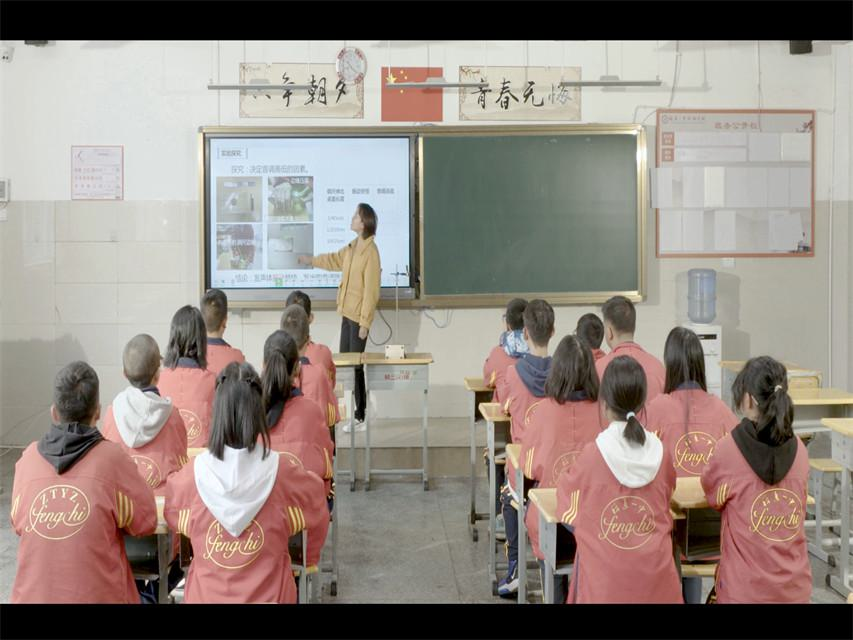listen: (595, 293, 664, 362), (505, 295, 550, 392), (489, 296, 527, 365), (575, 314, 607, 357)
